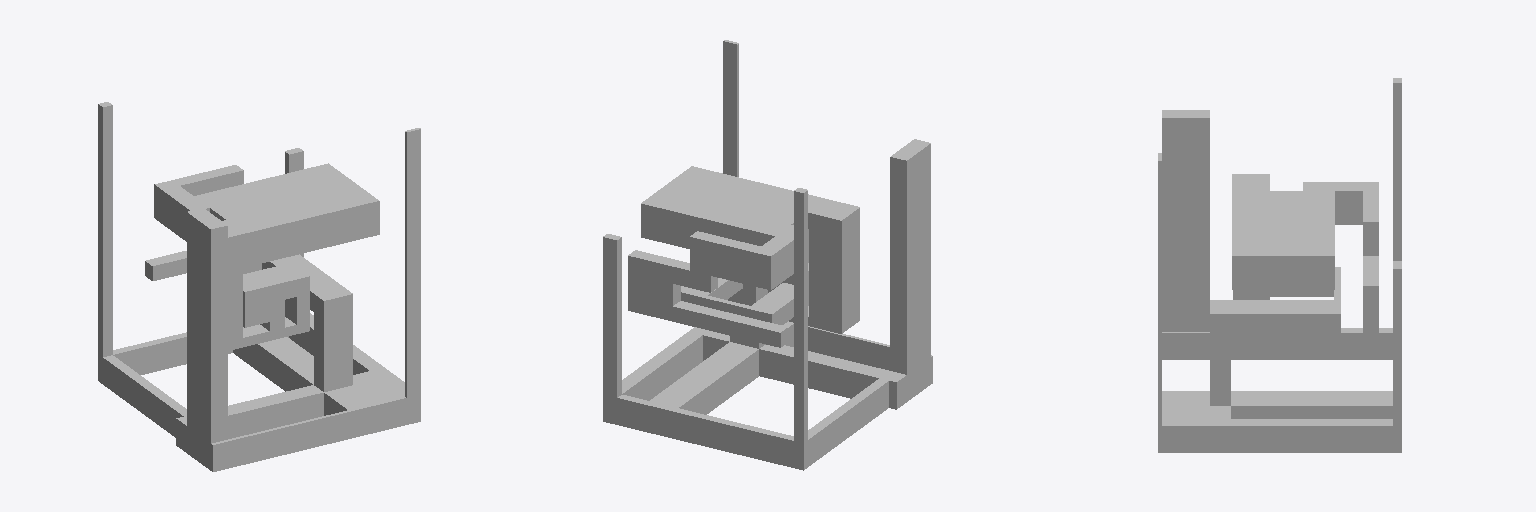
The model's file is Wierd.obj.
3 renders of one model, left to right at view 1: azimuth 30°, elevation 25°; view 2: azimuth 150°, elevation 25°; view 3: azimuth 270°, elevation 25°, orthographic.
Parts seen in each view (by area): view 1: Cube_Cube.001; view 2: Cube_Cube.001; view 3: Cube_Cube.001.
Part boxes in pixels (bbox=[...]): Cube_Cube.001: bbox=[98, 102, 420, 471]; Cube_Cube.001: bbox=[603, 40, 932, 470]; Cube_Cube.001: bbox=[1158, 78, 1401, 452].
Bounding box in the file's own units: 12.83 × 17.22 × 13.04.